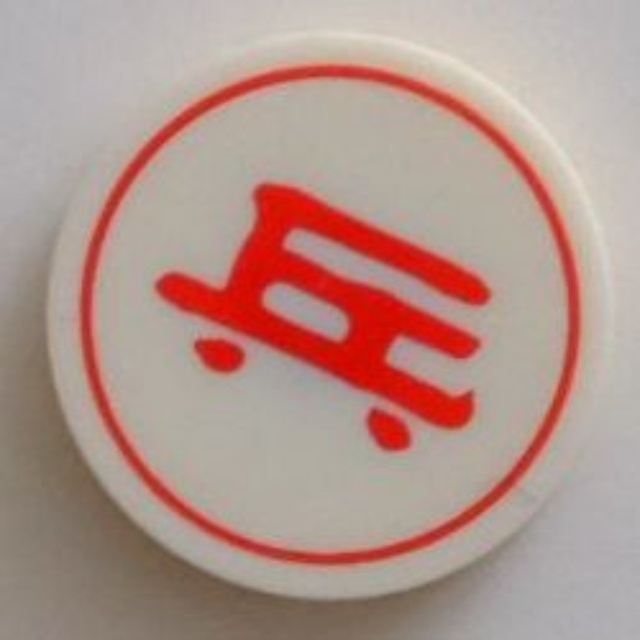red_chot: (37, 25, 612, 608)
